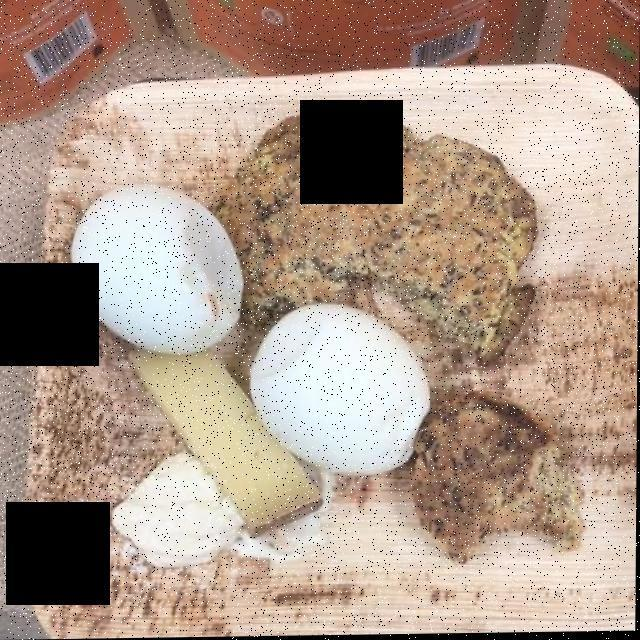cheese: (122, 349, 335, 554)
egg: (73, 169, 469, 494)
mayonnaise: (110, 452, 334, 570)
pancakes: (211, 108, 595, 567)
